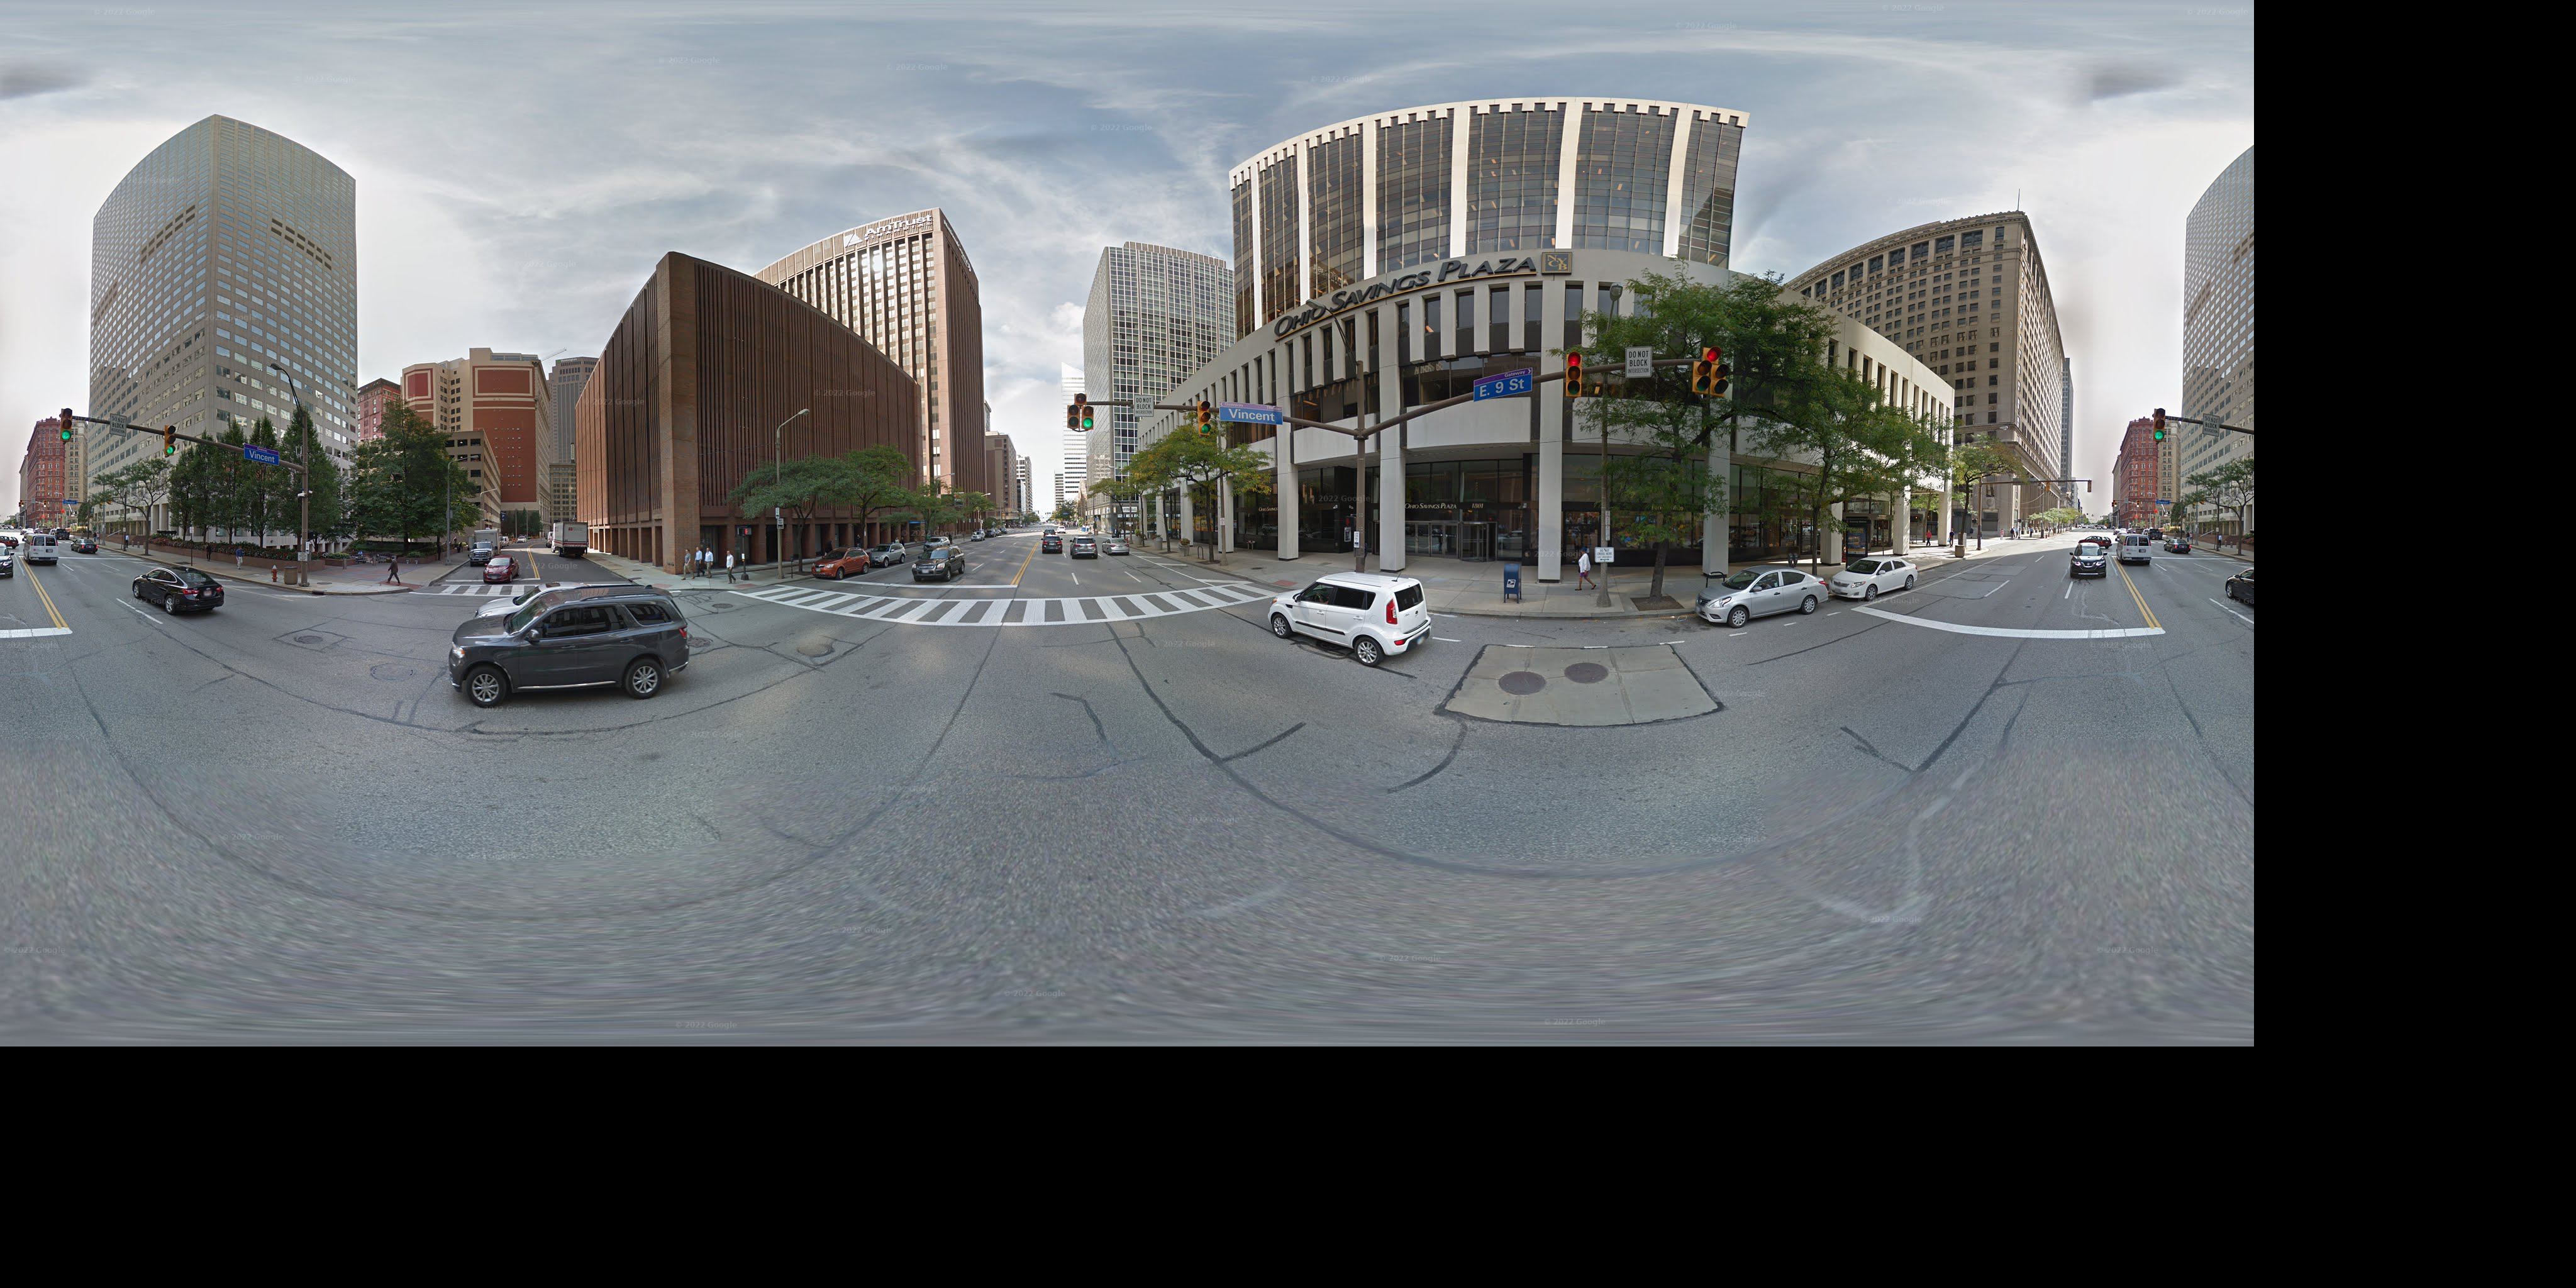Curb Ramp: (378, 572, 429, 595), (1258, 568, 1301, 591), (728, 578, 762, 595), (644, 580, 678, 590)
